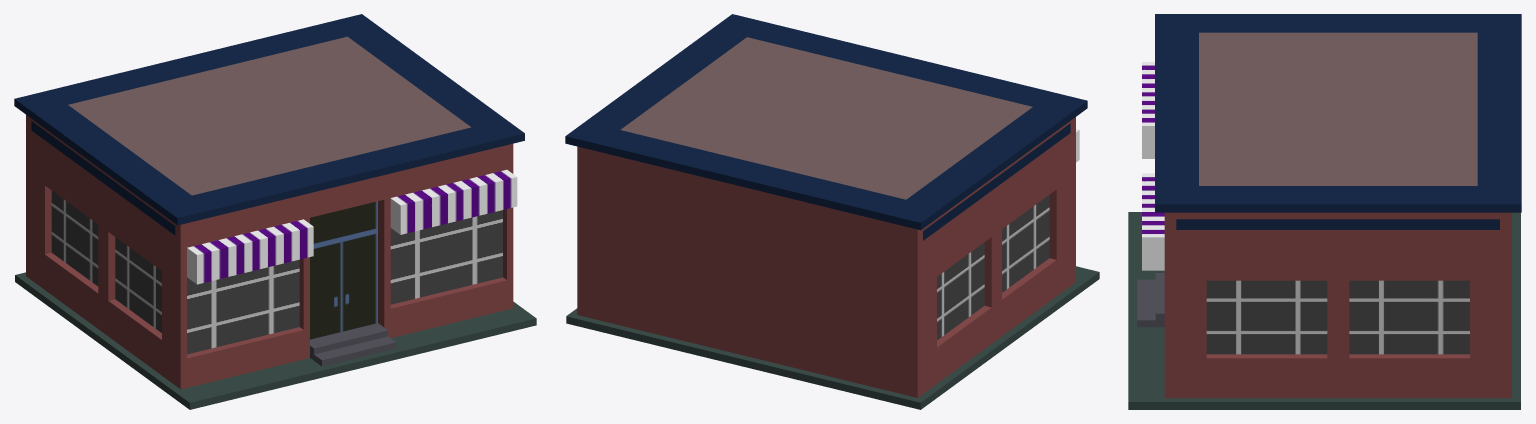
File: building7a.FBX
3 renders of one model, left to right at view 1: azimuth 30°, elevation 25°; view 2: azimuth 150°, elevation 25°; view 3: azimuth 270°, elevation 25°, orthographic. The views are drawn at different scales.
Visible parts, largest first — view 1: building7a; view 2: building7a; view 3: building7a.
Boxes of the visible parts, bbox=[...] form: building7a: bbox=[14, 14, 536, 409]; building7a: bbox=[565, 14, 1099, 409]; building7a: bbox=[1128, 14, 1521, 409].
Bounding box in the file's own units: 17.76 × 8.94 × 15.49.
